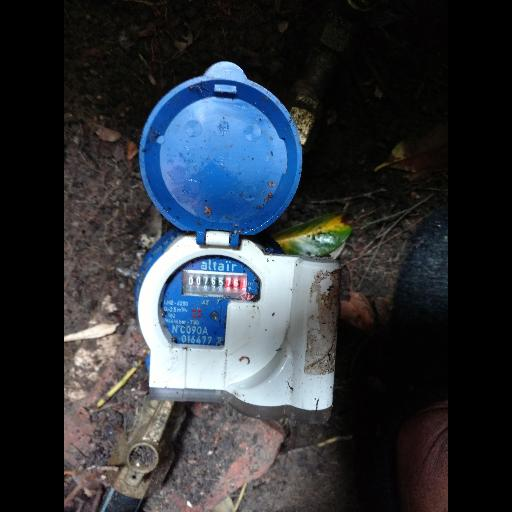0: (187, 273, 196, 288), (195, 274, 203, 289)
1: (239, 276, 247, 291)
5: (217, 275, 225, 290)
6: (232, 276, 241, 291), (210, 275, 218, 290)
7: (224, 275, 233, 290), (202, 274, 210, 289)
border_water_meter_number: (184, 270, 249, 297)
